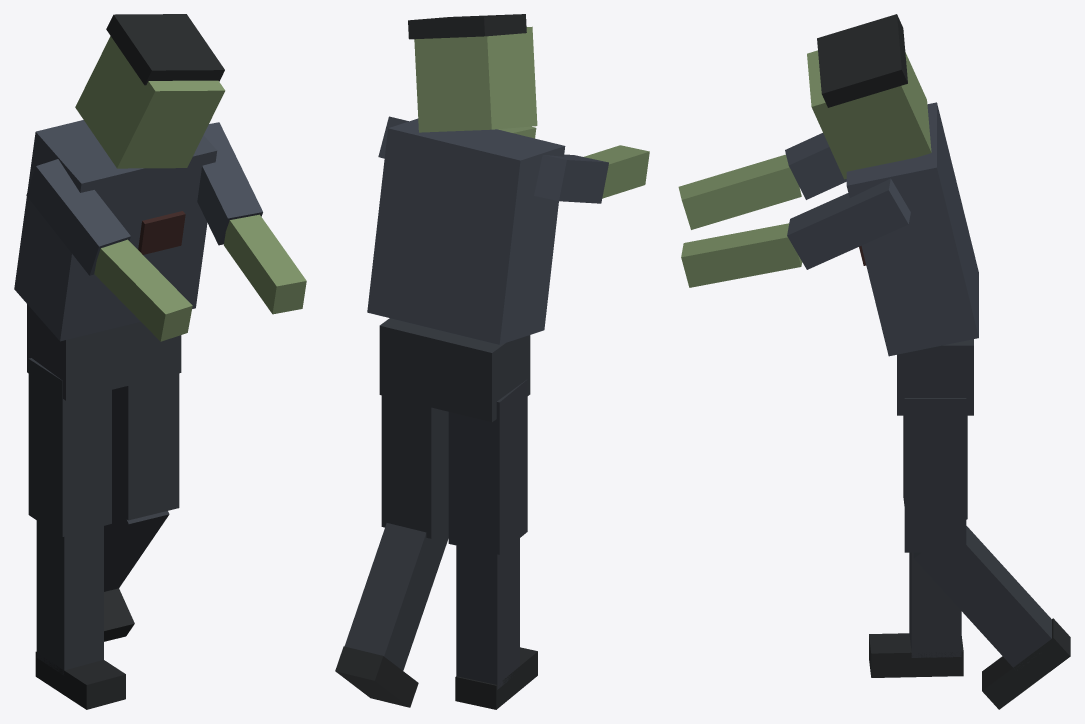
Rendered from zombie_male.glb.
3 views of the same model, side by side, from view 1: azimuth 30°, elevation 25°; view 2: azimuth 150°, elevation 25°; view 3: azimuth 270°, elevation 25° (orthographic). The views are drawn at different scales.
Parts seen in each view (by area): view 1: zombie_male; view 2: zombie_male; view 3: zombie_male.
Part boxes in pixels (<box>): zombie_male: <box>14,14,306,709</box>; zombie_male: <box>335,14,649,709</box>; zombie_male: <box>678,14,1070,709</box>.
Bounding box in the file's own units: 0.5436 × 1.9 × 1.02.
